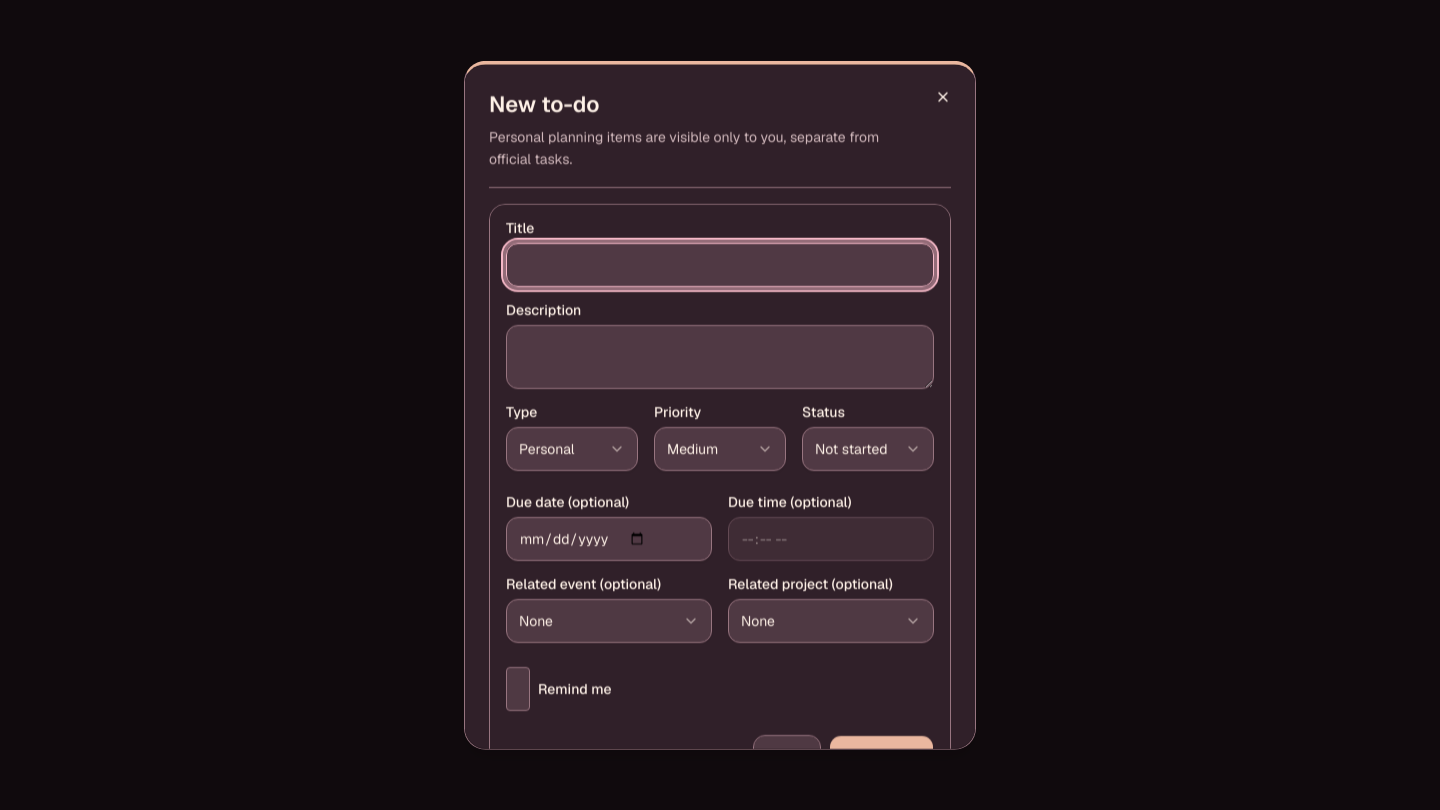
TodoDialog › disables the due time until a due date is set, and clears it if the date is removed
The width and height of the screenshot is (1440, 810).
Expected: the time field labelled "Due time (optional)" is disabled, [728,516,934,560]
Type "2026-09-20" into the date field labelled "Due date (optional)" at (609, 538), box [506,516,712,560]
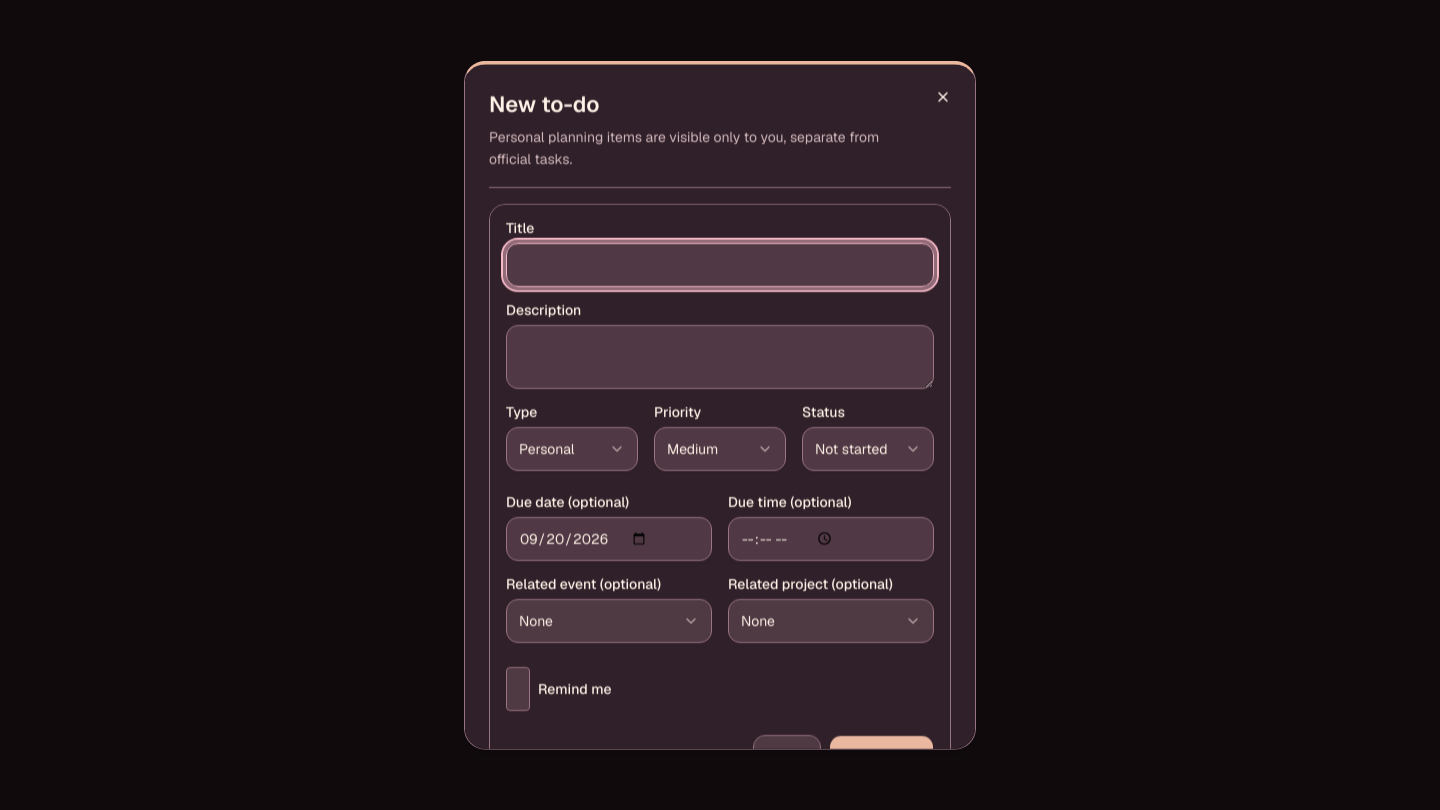
Expected: the time field labelled "Due time (optional)" is enabled
Type "09:00" into the time field labelled "Due time (optional)" at (831, 538), box [728,516,934,560]
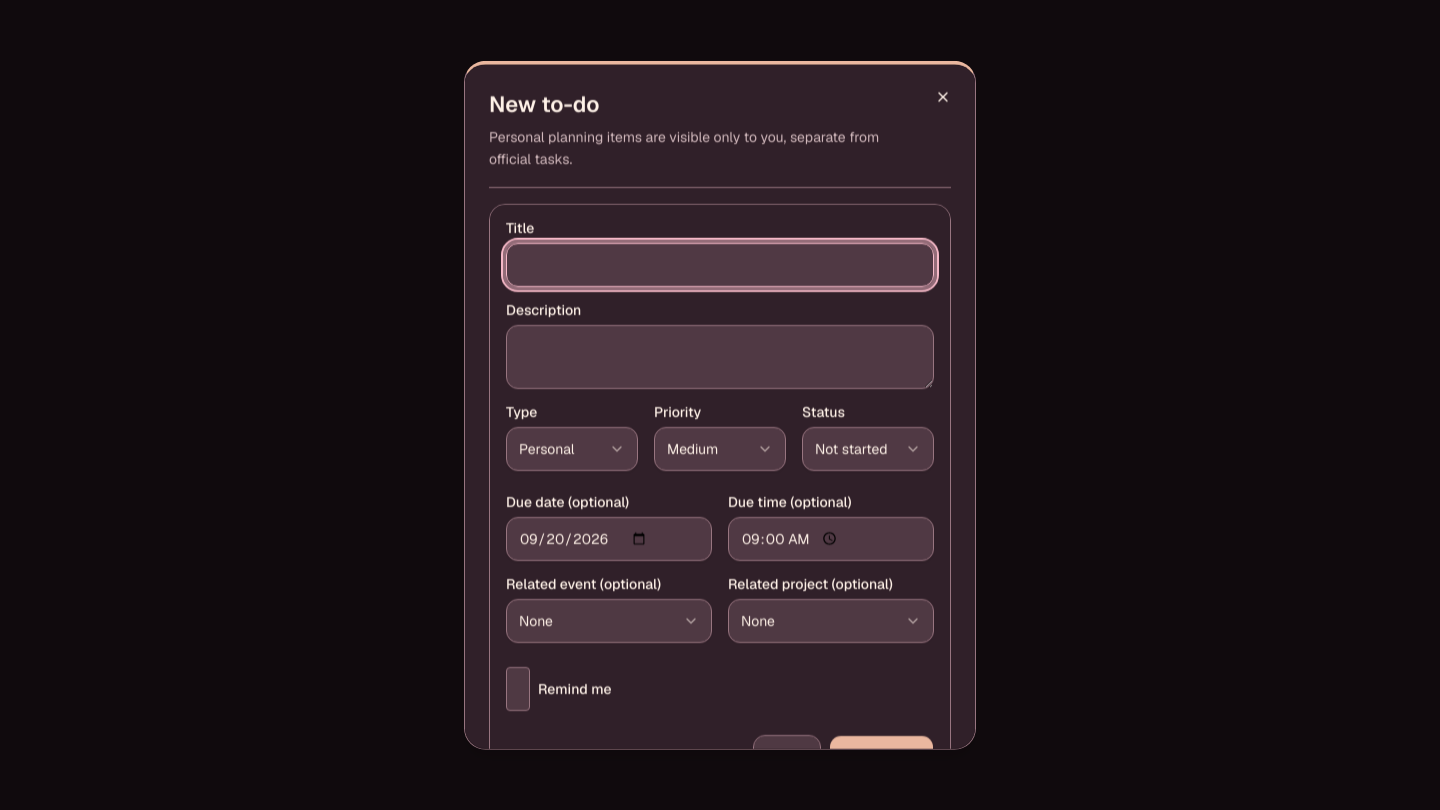
Clear the date field labelled "Due date (optional)" at (609, 538), box [506,516,712,560]
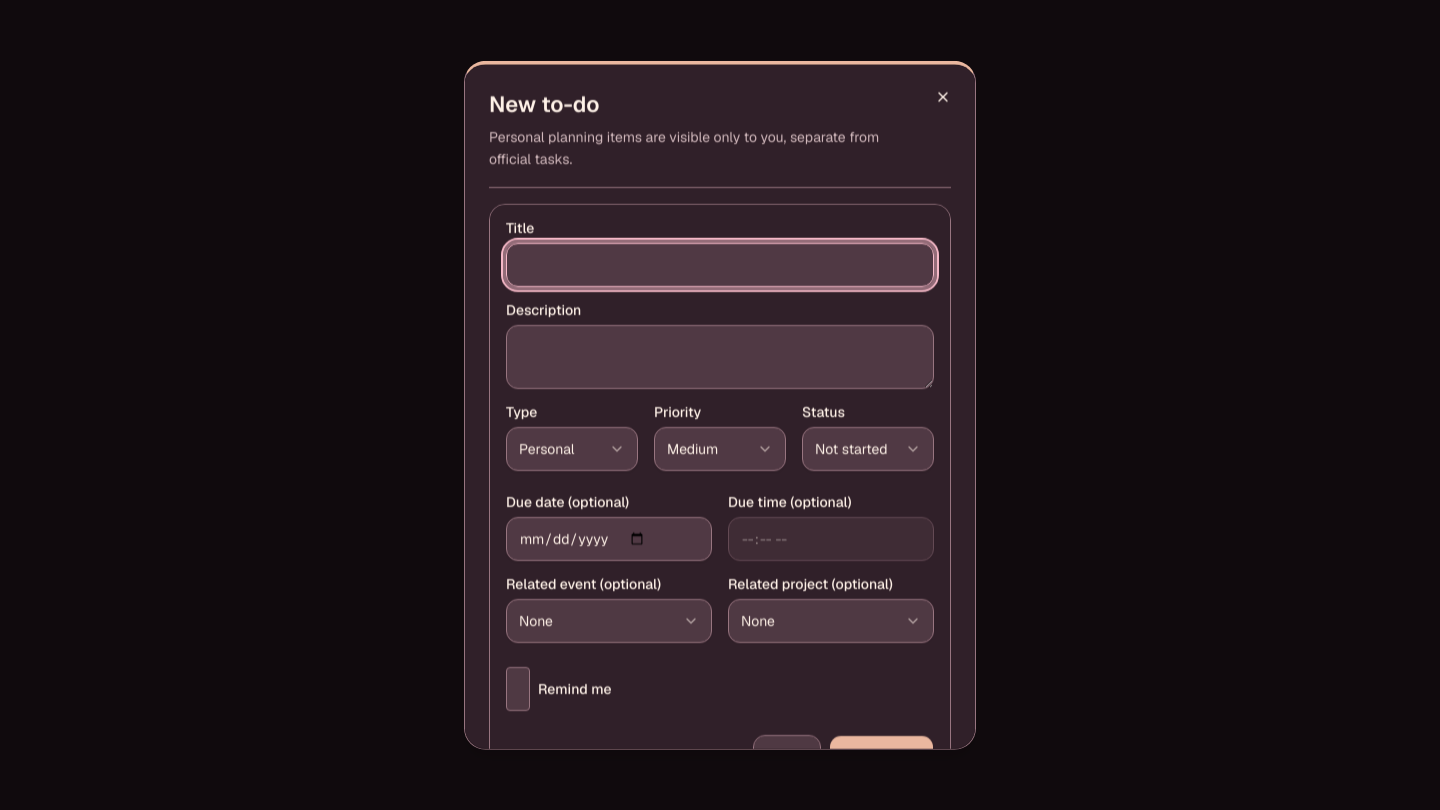
Expected: the time field labelled "Due time (optional)" is disabled, [728,516,934,560]
Expected: the time field labelled "Due time (optional)" is empty, [728,516,934,560]
